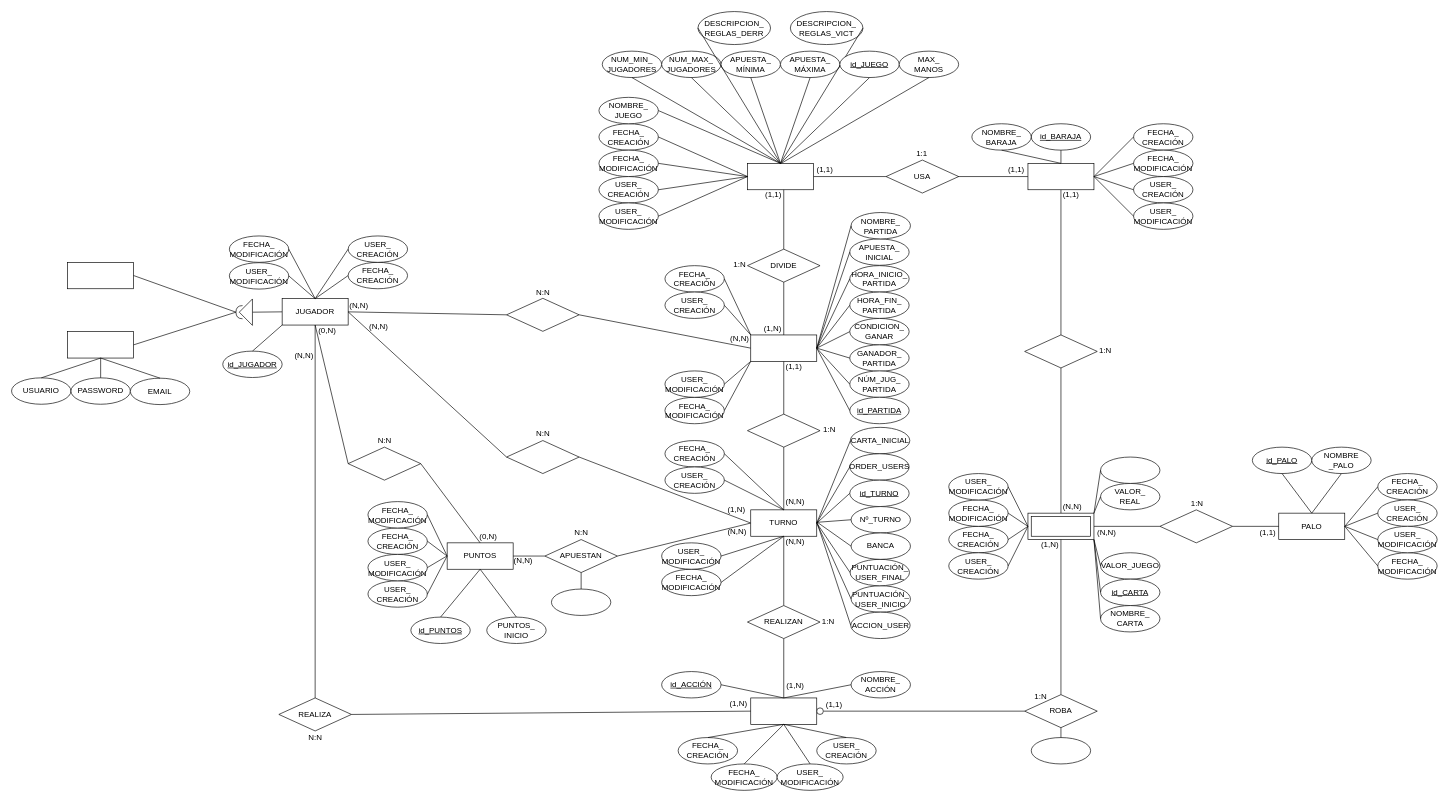
Image size: 1449x802. Some labels were removed from this diagram. Here are the shapes that lost their labels. From the top down, the centre of each, then its label:
At (x=780, y=176): "JUEGO".
At (x=1060, y=176): "BARAJA".
At (x=100, y=275): "BOT".
At (x=542, y=314): "PARTICIPA".
At (x=100, y=344): "HUMANO".
At (x=783, y=347): "PARTIDAS".
At (x=1060, y=351): "FORMADA".
At (x=783, y=430): "HAY".
At (x=384, y=463): "OBTIENE".
At (x=542, y=457): "JUEGA".
At (x=1130, y=469): "CARTAS_ ACTIVAS".
At (x=1060, y=526): "CARTAS".
At (x=1196, y=526): "TIENEN".
At (x=581, y=601): "PUNTOS_ APOSTADOS".
At (x=783, y=710): "ACCIÓN".
At (x=1061, y=750): "CARTA_ ROBADA".
